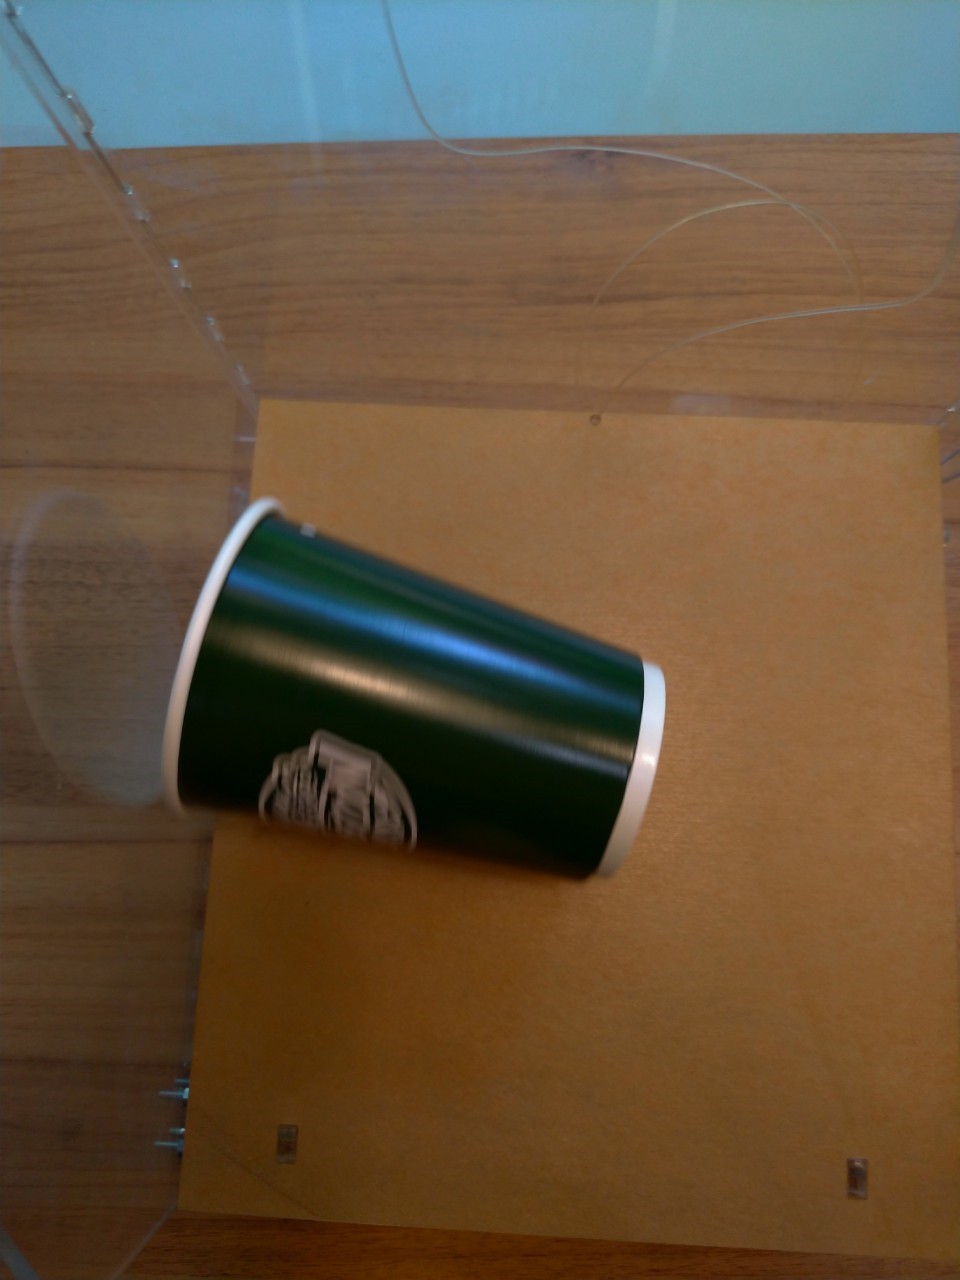PaperCup: (157, 496, 675, 886)
